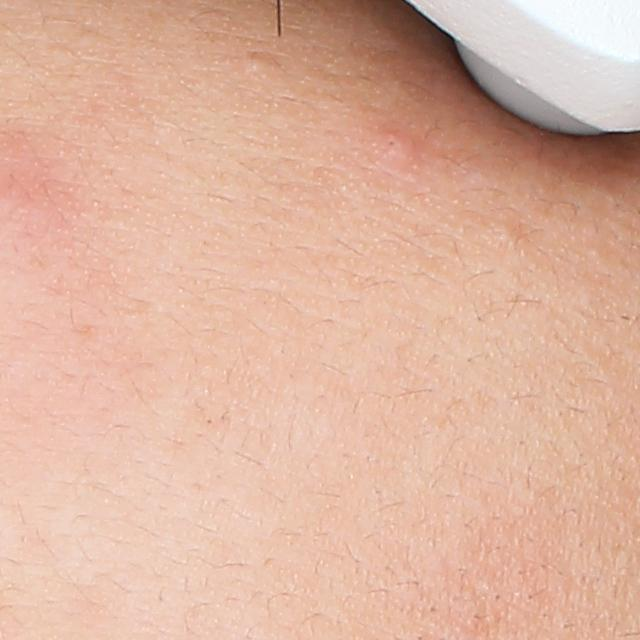comedo: (241, 51, 275, 82), (492, 219, 529, 247)
papule: (378, 128, 418, 164)
